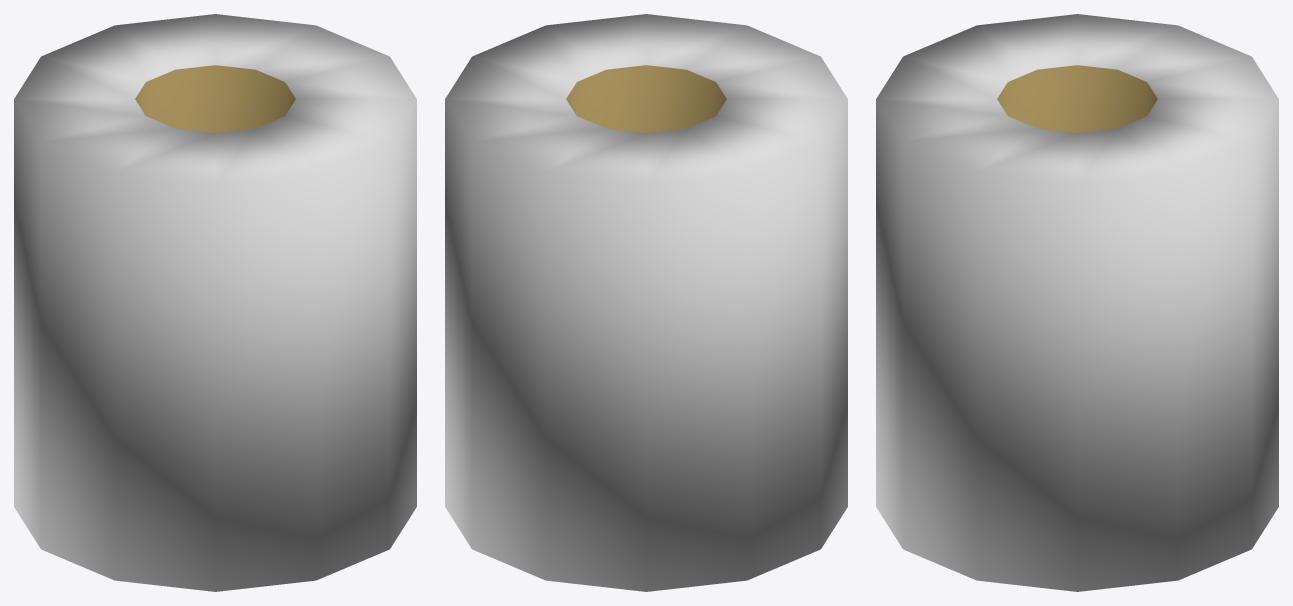
The model's file is ToiletPaper.glb.
3 renders of one model, left to right at view 1: azimuth 30°, elevation 25°; view 2: azimuth 150°, elevation 25°; view 3: azimuth 270°, elevation 25°, orthographic.
Parts seen in each view (by area): view 1: ToiletPaper; view 2: ToiletPaper; view 3: ToiletPaper.
Boxes of the visible parts, <box> form: ToiletPaper: <box>14,14,416,591</box>; ToiletPaper: <box>445,14,847,591</box>; ToiletPaper: <box>876,14,1278,591</box>.
Bounding box in the file's own units: 2.44 × 2.72 × 2.44.
